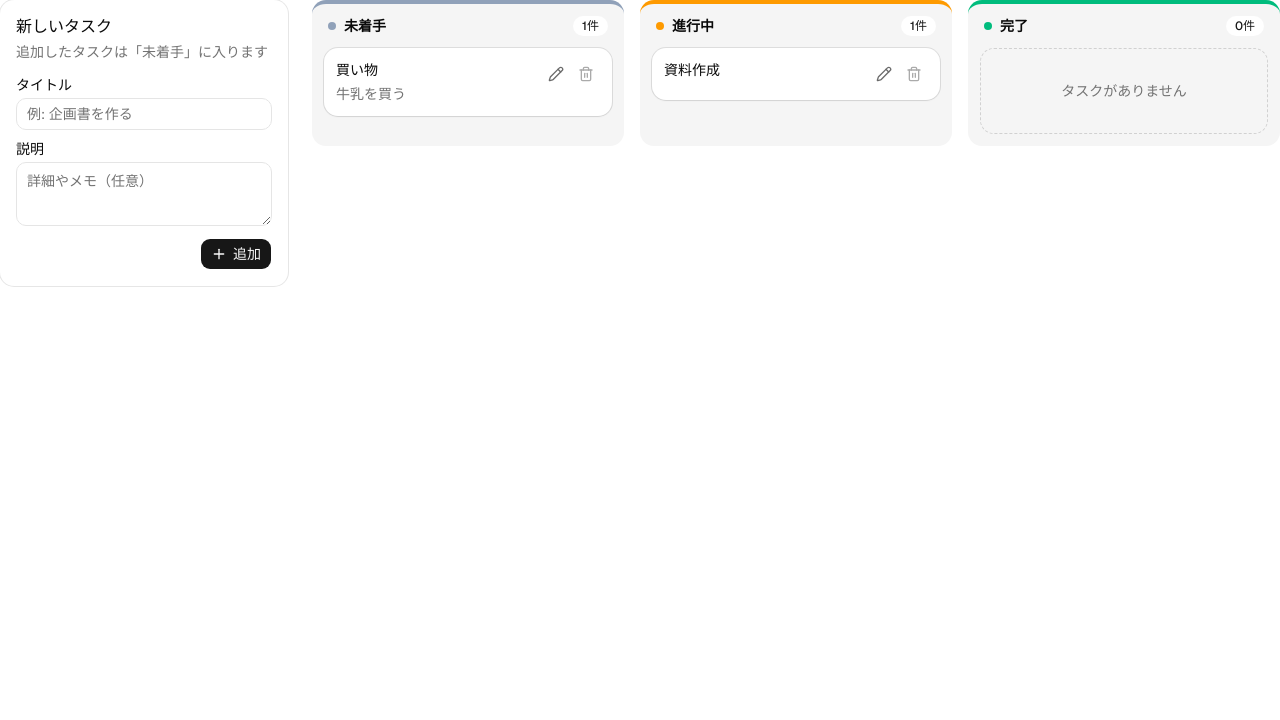
削除 › 確認ダイアログで「削除する」を押すと、すぐに一覧から消える
The width and height of the screenshot is (1280, 720).
Expected: the heading "買い物" is shown, [336,61,378,79]
Click the button named "「買い物」を削除" at [586, 74], box [572,60,600,88]
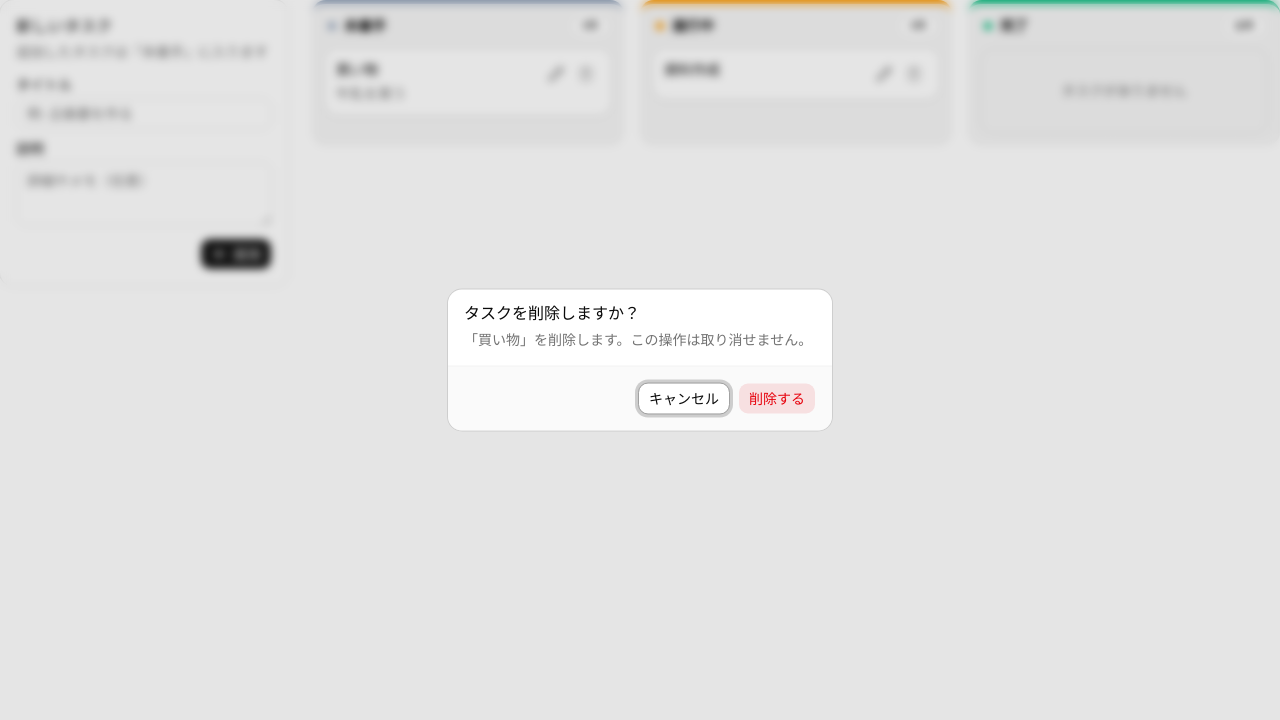
Click the button "削除する" at [777, 398], box [738,382,816,414]
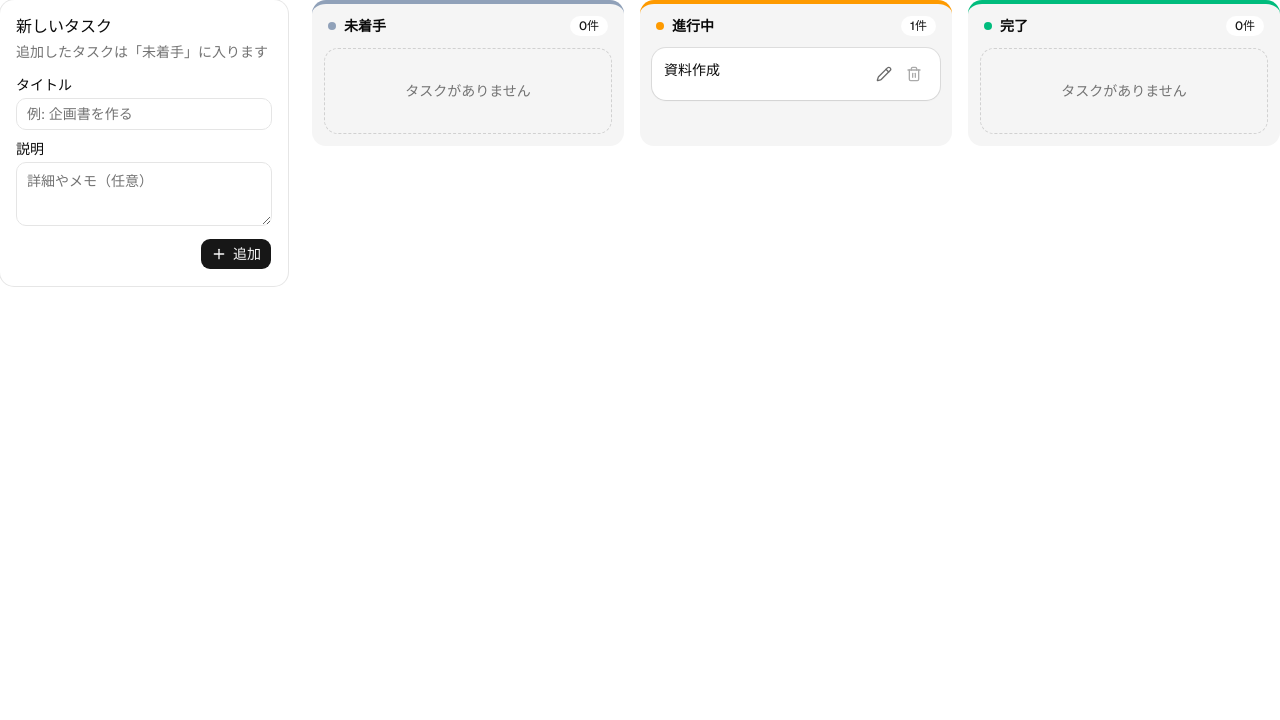
Expected: the heading "資料作成" is shown, [664,61,720,79]
Expected: the heading "買い物" is gone
Expected: the dialog is gone
